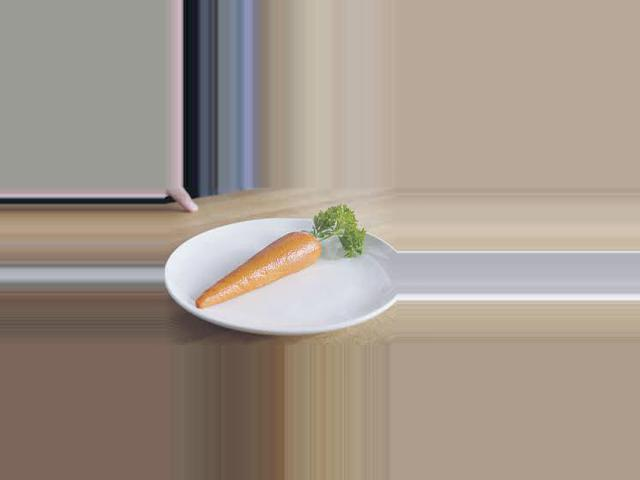carrot: (195, 230, 323, 314)
